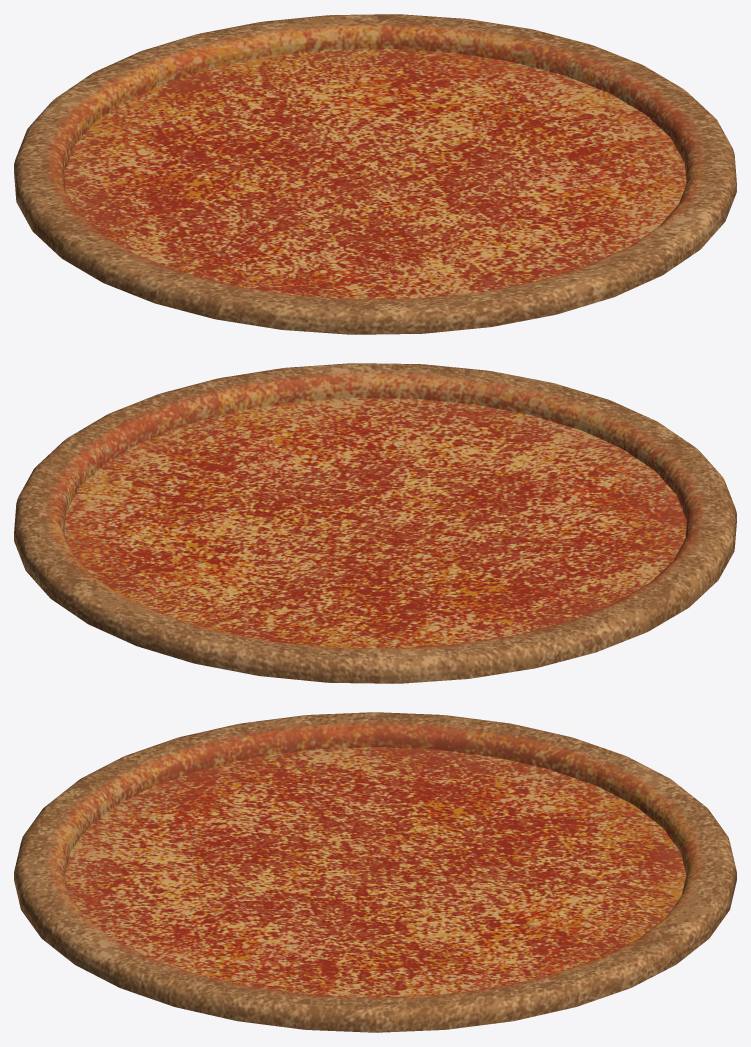
File: simple_pizza.glb
3 views of the same model, one above another, from view 1: azimuth 30°, elevation 25°; view 2: azimuth 150°, elevation 25°; view 3: azimuth 270°, elevation 25° (orthographic).
Visible parts, largest first — view 1: Object_2; view 2: Object_2; view 3: Object_2.
Part boxes in pixels (left/top/right/bottom): Object_2: left=14, top=14, right=736, bottom=334; Object_2: left=14, top=363, right=736, bottom=683; Object_2: left=14, top=712, right=736, bottom=1032.
Bounding box in the file's own units: 2 × 0.0593 × 2.
1 material, 1 textured.
